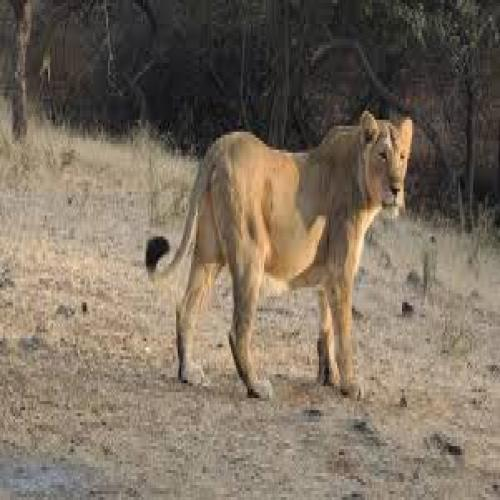lion-endangered: (168, 118, 410, 388)
